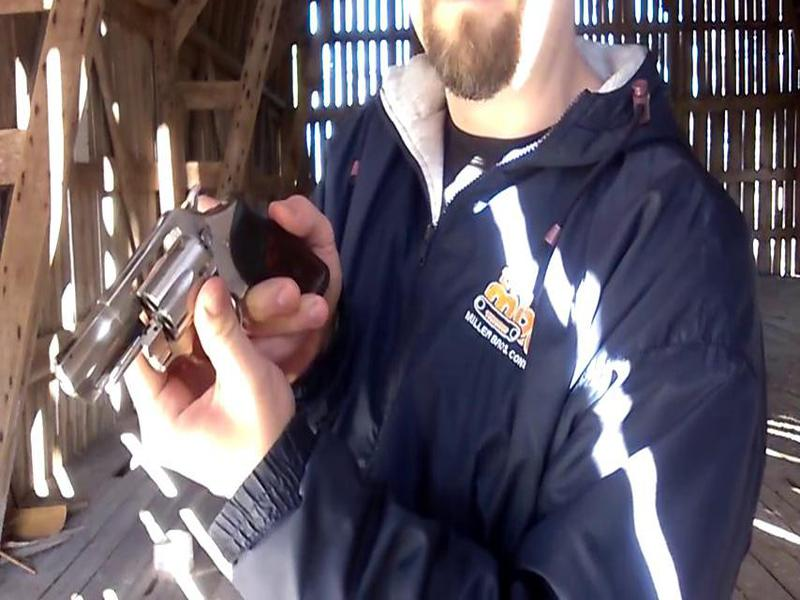Revolver: (51, 182, 321, 412)
